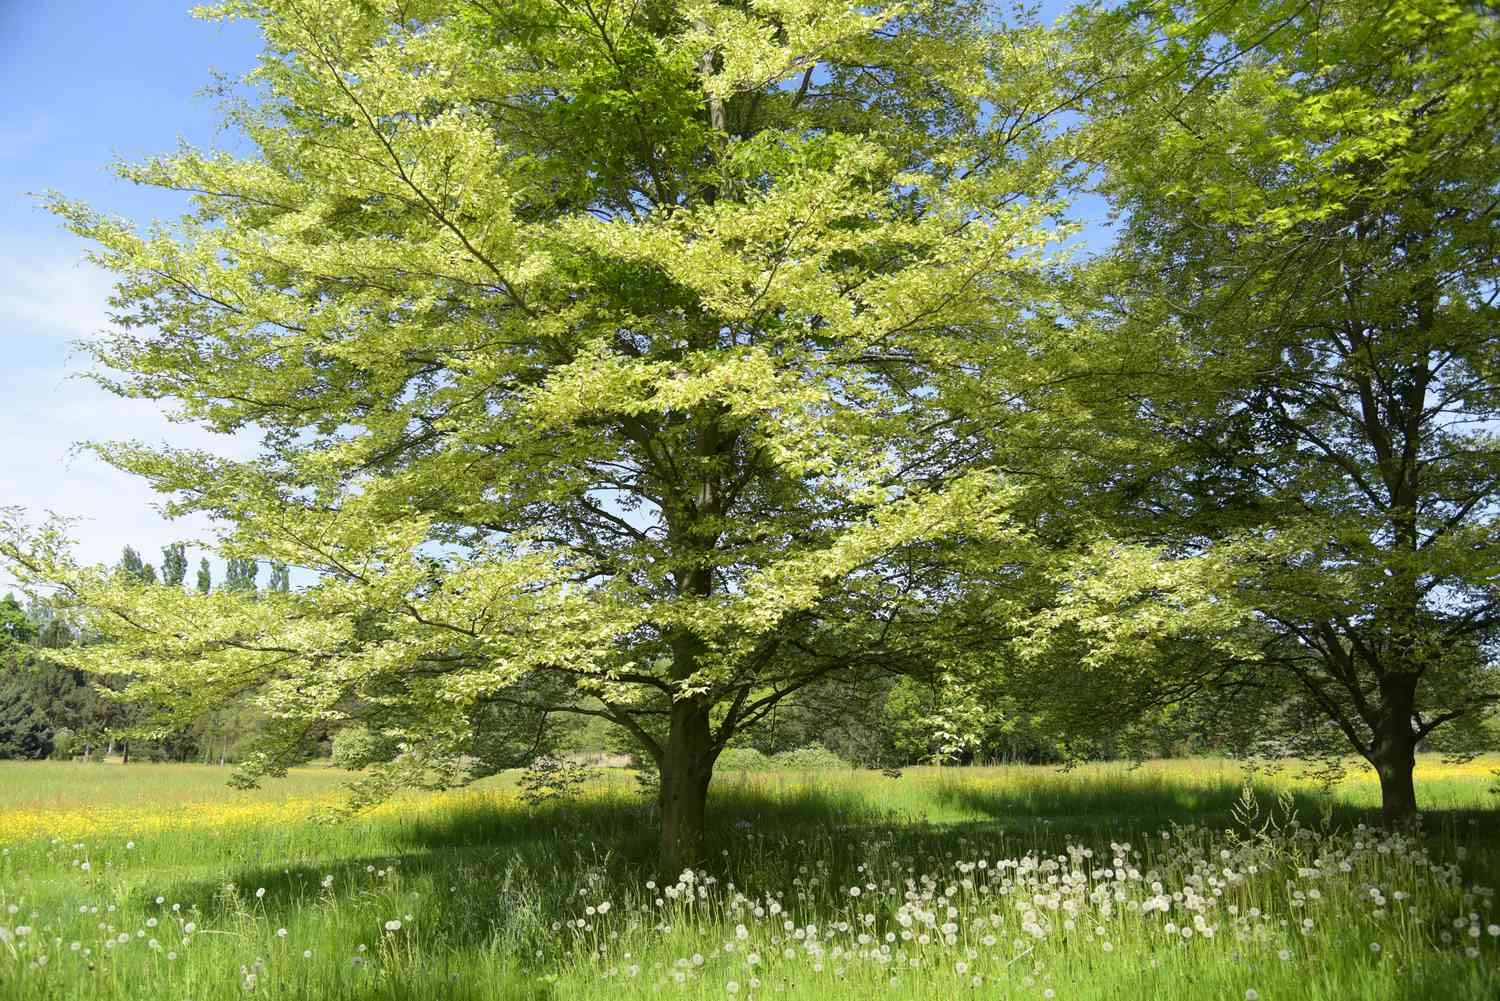grass: (725, 770, 1384, 989), (1, 759, 628, 986)
tree: (634, 684, 714, 887), (1349, 666, 1422, 835)
